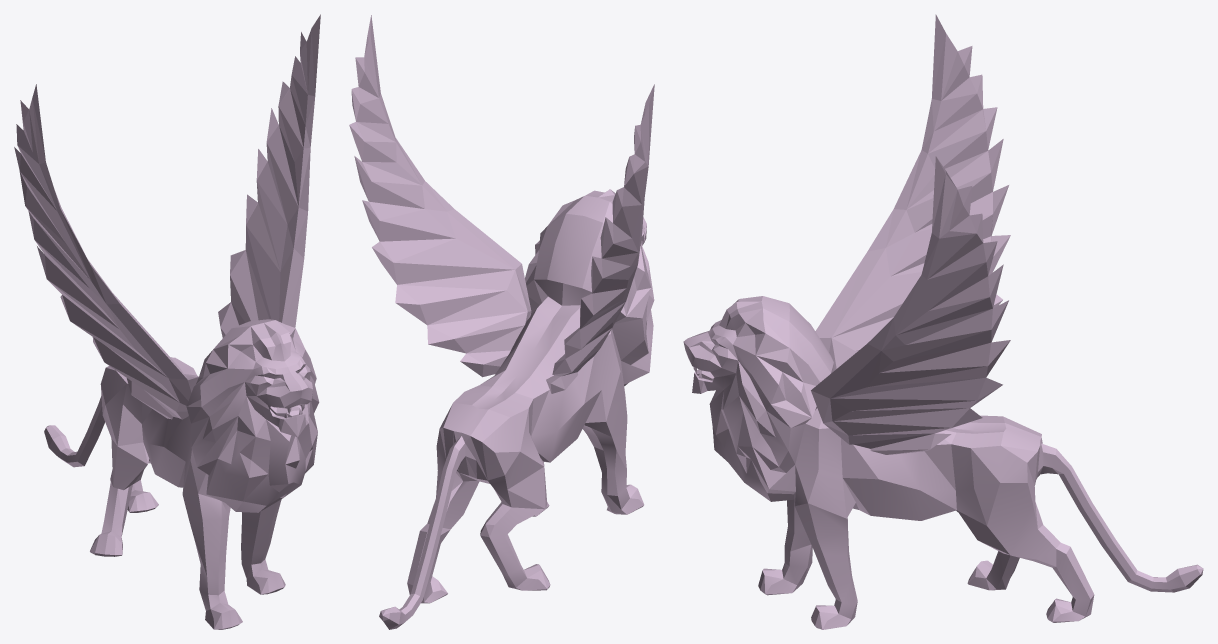
File: Skif.fbx
3 views of the same model, side by side, from view 1: azimuth 30°, elevation 25°; view 2: azimuth 150°, elevation 25°; view 3: azimuth 270°, elevation 25° (orthographic). The views are drawn at different scales.
Parts seen in each view (by area): view 1: Skif; view 2: Skif; view 3: Skif.
Boxes of the visible parts, x1,y1,x2,y2 form: Skif: [14, 14, 320, 629]; Skif: [349, 15, 654, 629]; Skif: [683, 14, 1203, 629].
Bounding box in the file's own units: 105 × 179 × 162.
